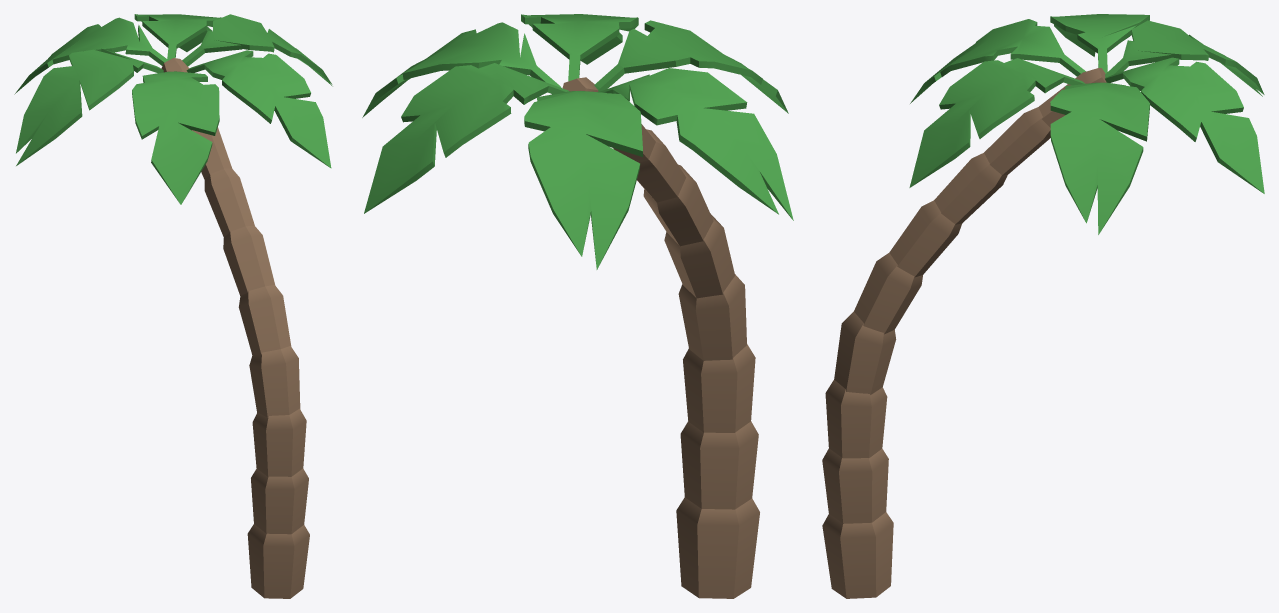
File: Palm Tree Low Poly.fbx
3 views of the same model, side by side, from view 1: azimuth 30°, elevation 25°; view 2: azimuth 150°, elevation 25°; view 3: azimuth 270°, elevation 25° (orthographic). The views are drawn at different scales.
Visible parts, largest first — view 1: pCylinder10, pPlane6, pPlane5, pPlane3, pPlane4, pPlane1, pPlane2; view 2: pCylinder10, pPlane1, pPlane3, pPlane2, pPlane6, pPlane4, pPlane5; view 3: pCylinder10, pPlane4, pPlane2, pPlane5, pPlane6, pPlane1, pPlane3.
Part boxes in pixels (x1,y1,x2,y2): pCylinder10: (161, 58, 309, 598); pPlane6: (132, 71, 219, 204); pPlane5: (186, 50, 331, 168); pPlane3: (16, 48, 163, 165); pPlane4: (182, 14, 332, 86); pPlane1: (14, 17, 167, 94); pPlane2: (134, 14, 221, 60); pCylinder10: (562, 77, 759, 598); pPlane1: (524, 91, 642, 269); pPlane3: (599, 68, 793, 220); pPlane2: (364, 63, 568, 213); pPlane6: (594, 20, 788, 113); pPlane4: (362, 22, 561, 117); pPlane5: (521, 14, 638, 81); pCylinder10: (822, 68, 1106, 598); pPlane4: (1050, 82, 1149, 234); pPlane2: (1105, 57, 1264, 193); pPlane5: (909, 58, 1085, 187); pPlane6: (910, 19, 1085, 103); pPlane1: (1105, 20, 1264, 96); pPlane3: (1050, 14, 1149, 73).
Bounding box in the file's own units: 8.22 × 11.48 × 8.61.
